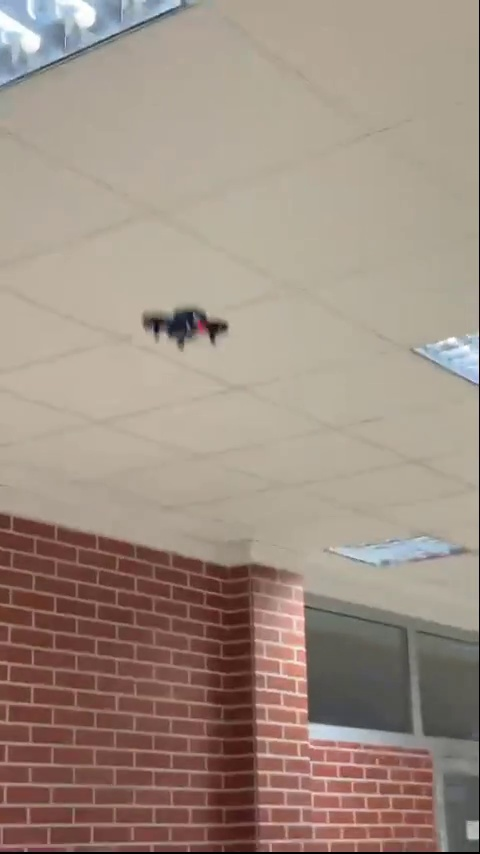drone: (143, 304, 234, 344)
